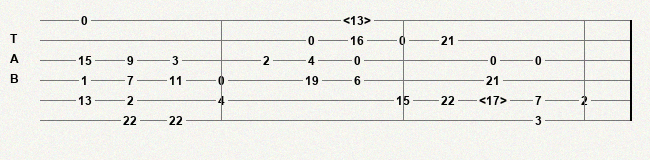0: (81, 14, 92, 27), (218, 74, 229, 87), (308, 34, 319, 47), (354, 54, 365, 67), (399, 34, 410, 47), (490, 54, 501, 67), (535, 54, 546, 67)
1: (81, 74, 92, 87)
11: (169, 74, 187, 87)
13: (78, 94, 96, 107)
15: (78, 54, 96, 67), (396, 94, 414, 107)
16: (350, 34, 368, 47)
19: (305, 74, 323, 87)
2: (127, 94, 138, 107), (263, 54, 274, 67), (581, 94, 592, 107)
21: (441, 34, 459, 47), (486, 74, 504, 87)
22: (123, 114, 141, 127), (169, 114, 187, 127), (441, 94, 459, 107)
3: (172, 54, 183, 67), (535, 114, 546, 127)
4: (218, 94, 229, 107), (308, 54, 319, 67)
6: (354, 74, 365, 87)
7: (127, 74, 138, 87), (535, 94, 546, 107)
9: (127, 54, 138, 67)
harmonic: (343, 14, 375, 27), (479, 94, 511, 107)
